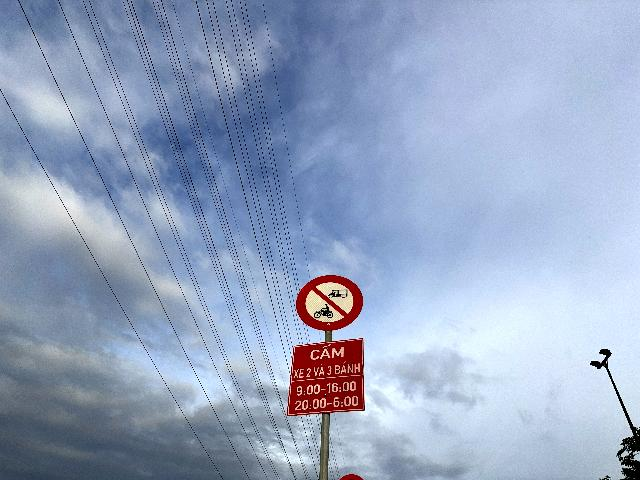cam-xe-2-banh-3-banh: (296, 275, 364, 331)
